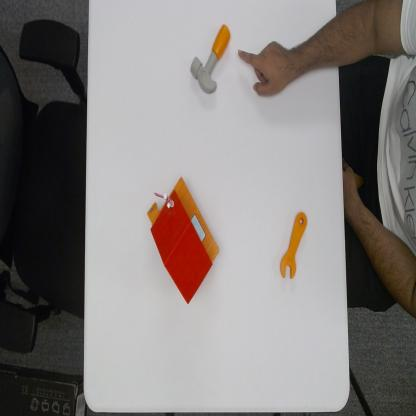Arm: (291, 19, 339, 79)
Hammer: (190, 22, 231, 96)
Hand: (236, 37, 292, 100)
House: (146, 174, 221, 306)
Screwdriver: (280, 209, 309, 281)
